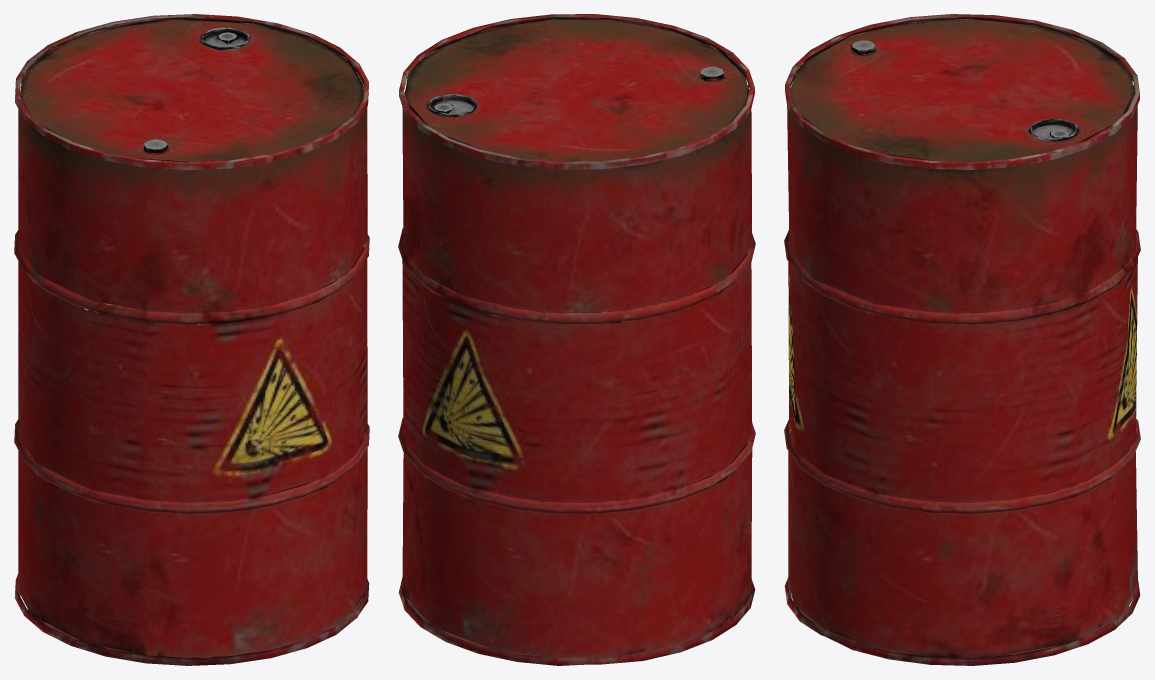
The model's file is Barrel_01_1k.gltf.
The picture shows the model from 3 angles, left to right: view 1: azimuth 30°, elevation 25°; view 2: azimuth 150°, elevation 25°; view 3: azimuth 270°, elevation 25°; orthographic projection.
Parts seen in each view (by area): view 1: Barrel_01_LOD0; view 2: Barrel_01_LOD0; view 3: Barrel_01_LOD0.
Boxes of the visible parts, x1,y1,x2,y2 form: Barrel_01_LOD0: (14, 14, 369, 665); Barrel_01_LOD0: (398, 14, 755, 665); Barrel_01_LOD0: (784, 14, 1140, 665).
Size of what is drawn, in the model's own units: 0.5638 by 0.8795 by 0.5638.
Materials: 1 (1 with a texture image).
